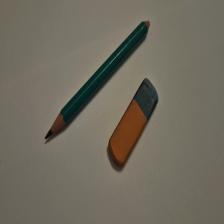eraser: (109, 78, 160, 168)
pencil: (46, 21, 151, 140)
